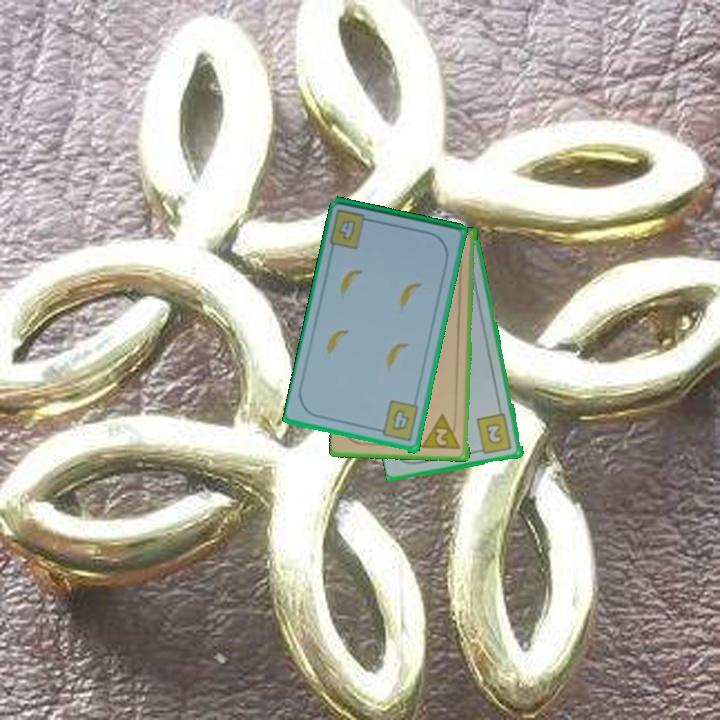2b: (473, 411, 515, 457)
2p: (420, 411, 464, 453)
4b: (373, 397, 421, 445), (327, 206, 377, 252)
